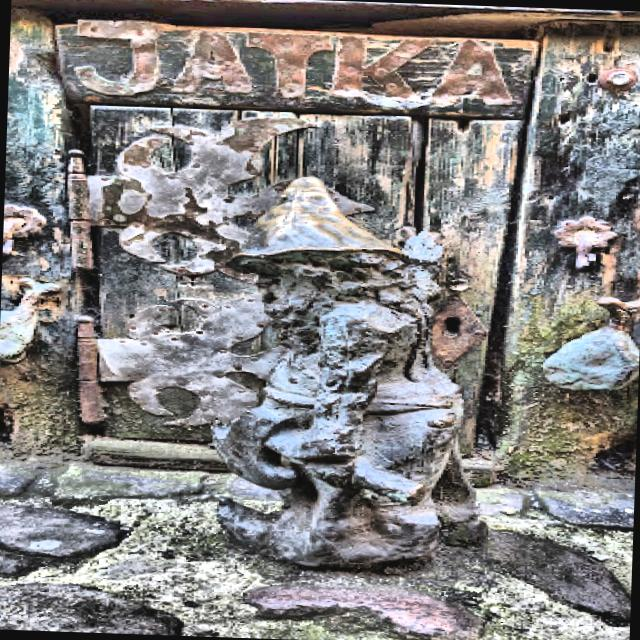Rzeznik: (214, 176, 484, 567)
